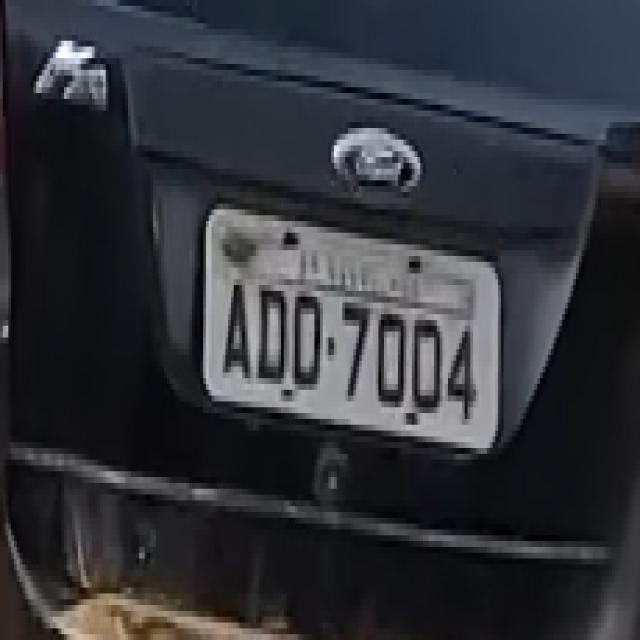Placa_mercosul_carro: (202, 209, 502, 454)
